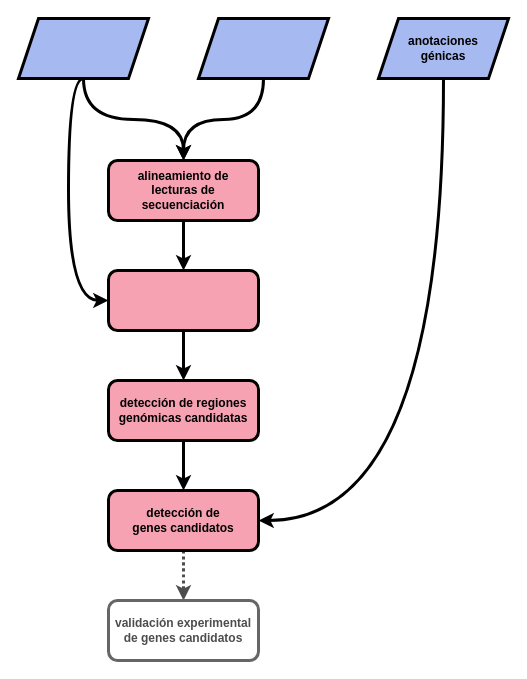
The diagram is 527 pixels wide and 679 high, and some of its shapes have lost their labels. Here are the shapes that lost their labels. From the top down, the centre of each, then its label:
(x=83, y=48): ensamblado genómico
(x=263, y=48): lecturas de secuenciación
(x=183, y=300): detección de variantes de secuencia
